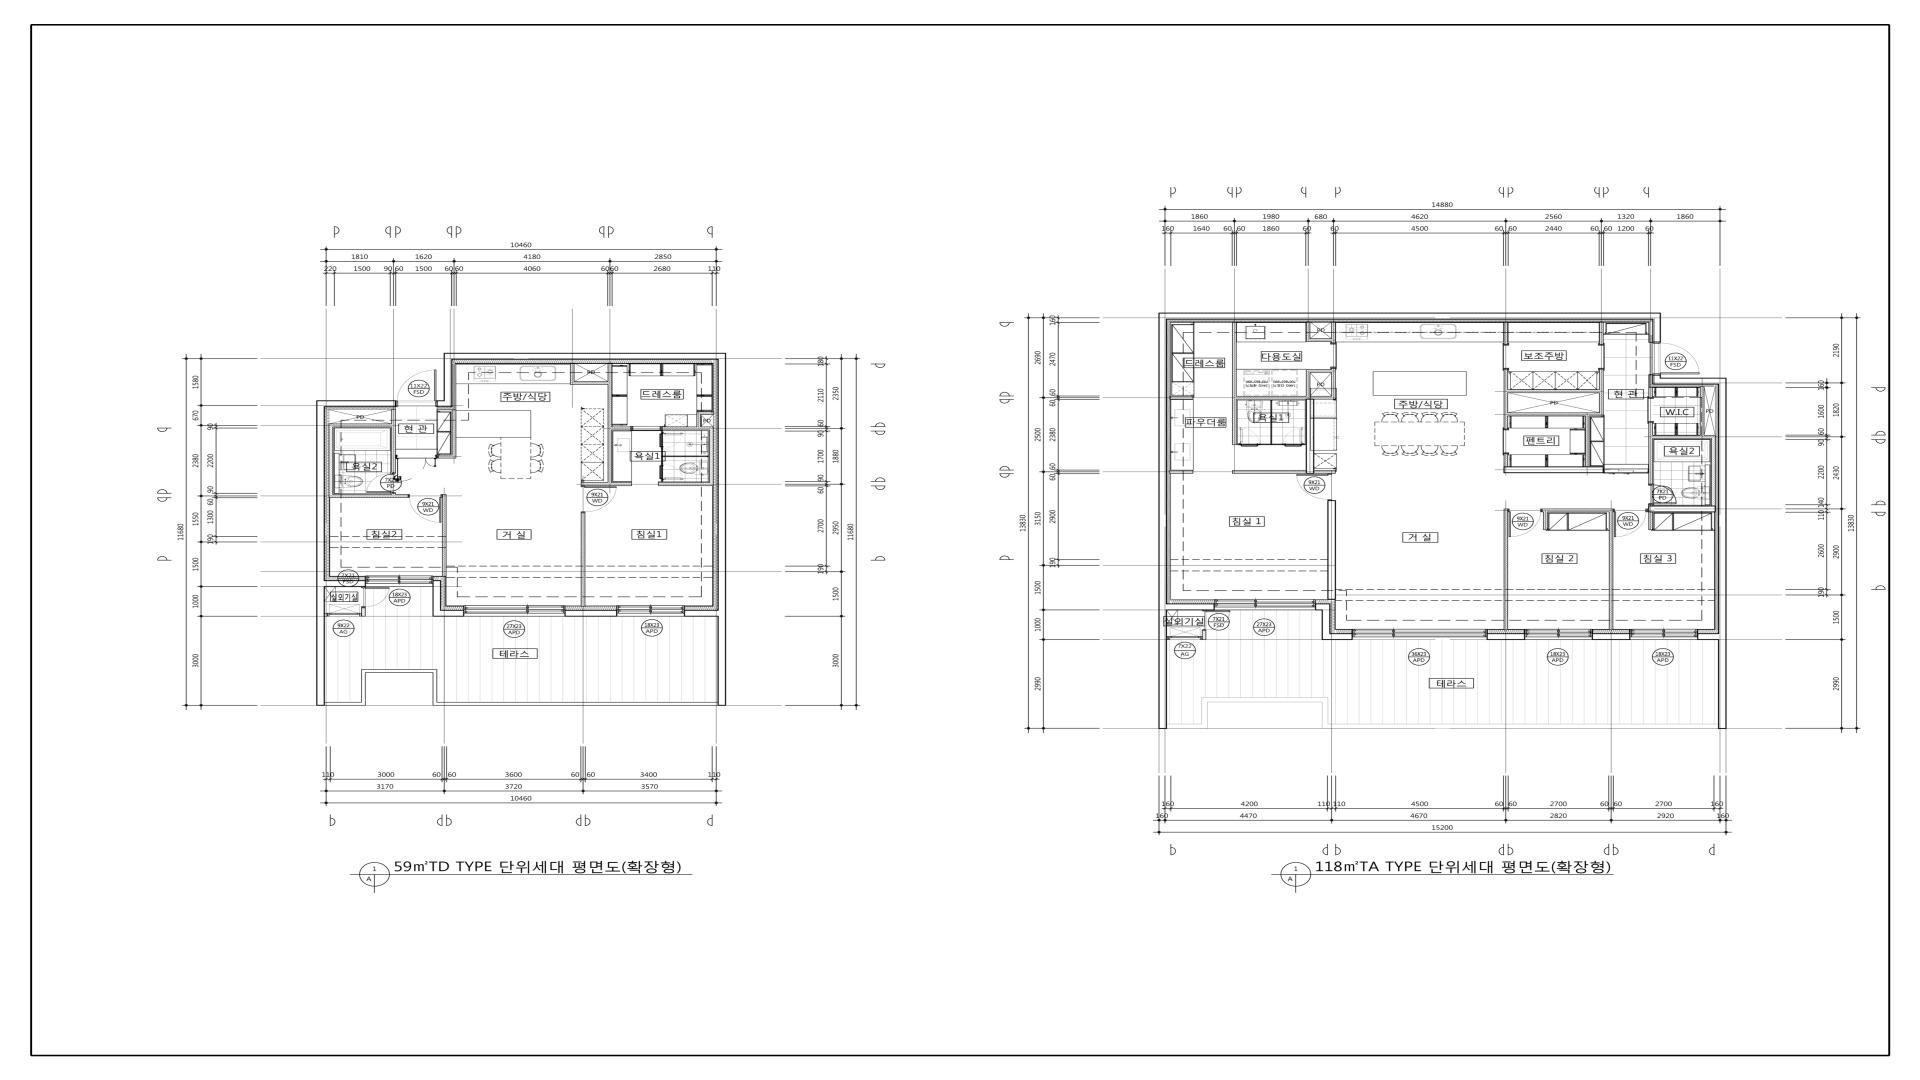door: (396, 369, 436, 407), (1659, 343, 1700, 375), (580, 485, 617, 513), (409, 495, 442, 522), (1613, 510, 1646, 538), (1296, 475, 1332, 500), (1509, 510, 1542, 537), (367, 472, 396, 493), (361, 587, 390, 608), (1651, 485, 1677, 505), (1205, 611, 1230, 630), (659, 431, 683, 448), (659, 464, 683, 481), (1240, 427, 1259, 447), (1283, 427, 1302, 447), (1604, 468, 1648, 473), (630, 426, 663, 431), (1647, 398, 1654, 423), (1502, 429, 1509, 454), (1598, 344, 1605, 369), (1502, 344, 1509, 369), (1331, 344, 1336, 368)
wall: (1158, 313, 1662, 640), (1652, 375, 1727, 640), (717, 353, 727, 617), (443, 353, 717, 360), (316, 407, 324, 617), (1315, 604, 1353, 641), (1327, 500, 1336, 600), (1305, 400, 1315, 473), (1503, 467, 1604, 473), (1232, 322, 1237, 444), (1609, 509, 1614, 629), (1503, 509, 1509, 629), (1648, 505, 1716, 513), (316, 401, 396, 407), (580, 513, 585, 607), (608, 364, 612, 485), (443, 360, 452, 407), (442, 495, 447, 576), (328, 493, 409, 498), (564, 609, 617, 617), (1507, 413, 1604, 417), (328, 423, 334, 495), (1507, 389, 1600, 393), (1232, 469, 1305, 473), (1237, 396, 1311, 400), (433, 580, 440, 617), (324, 580, 365, 587), (1712, 438, 1716, 505), (684, 609, 717, 617), (1700, 386, 1705, 435), (1486, 633, 1524, 640), (1652, 435, 1716, 439), (392, 409, 396, 472), (1648, 423, 1652, 485), (1593, 633, 1630, 640), (1503, 369, 1507, 429), (334, 423, 392, 427), (658, 483, 713, 487), (709, 427, 713, 483), (1585, 417, 1589, 467), (452, 410, 456, 459), (440, 609, 464, 617), (1542, 509, 1609, 512), (1600, 369, 1604, 413), (1331, 368, 1336, 397), (570, 381, 608, 385), (1305, 369, 1311, 396), (663, 427, 709, 430), (1503, 322, 1509, 344), (1270, 400, 1273, 443), (1331, 322, 1336, 343), (1311, 396, 1336, 400), (1543, 512, 1548, 530), (1170, 469, 1193, 473), (1170, 396, 1193, 400), (570, 364, 575, 381), (1600, 323, 1604, 344), (1315, 469, 1336, 473), (1311, 369, 1332, 373), (612, 483, 632, 487), (1503, 454, 1509, 467), (582, 483, 608, 485), (1648, 513, 1652, 530), (696, 411, 713, 415), (1305, 322, 1309, 339), (1305, 339, 1331, 342), (696, 415, 702, 427), (1259, 443, 1282, 446), (663, 455, 708, 456), (438, 455, 452, 459), (436, 401, 444, 407), (1201, 630, 1207, 640), (612, 427, 630, 430), (1648, 388, 1652, 398), (661, 448, 663, 464), (361, 608, 365, 616), (324, 613, 327, 616)
window: (1352, 629, 1486, 640), (1215, 599, 1315, 611), (464, 605, 564, 616), (1524, 629, 1593, 640), (365, 576, 433, 587), (617, 605, 684, 616), (1630, 629, 1697, 640), (327, 613, 361, 616), (1167, 637, 1201, 640)
